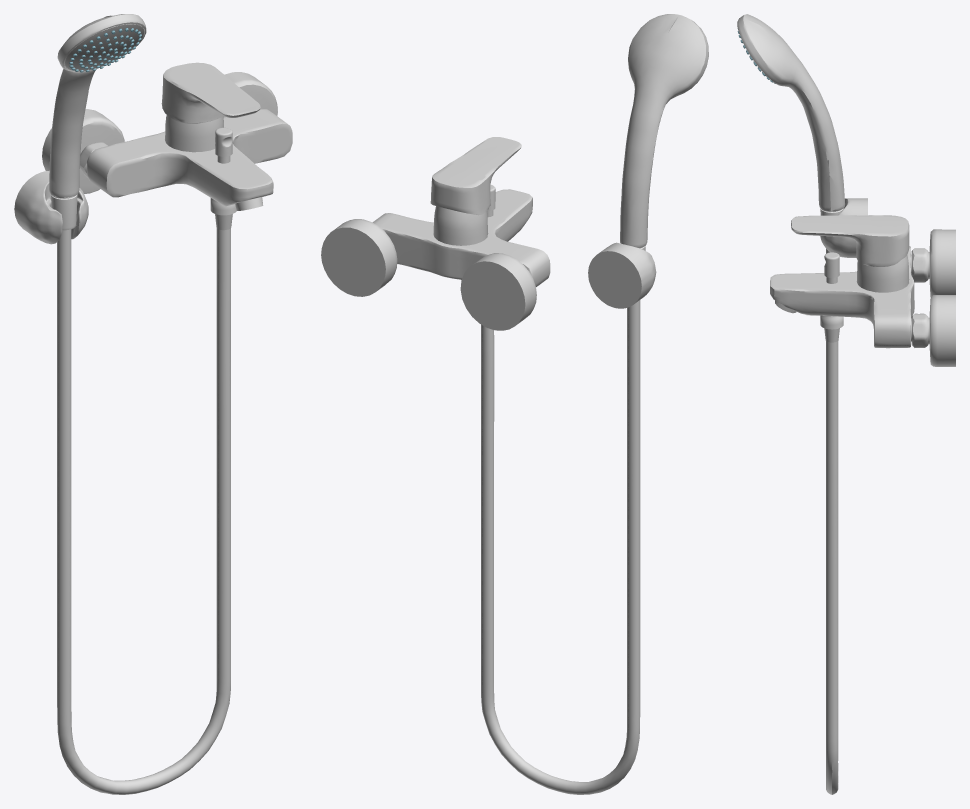
Rendered from Ceraplan3.glb.
The picture shows the model from 3 angles, left to right: view 1: azimuth 30°, elevation 25°; view 2: azimuth 150°, elevation 25°; view 3: azimuth 270°, elevation 25°; orthographic projection. The views are drawn at different scales.
Visible parts, largest first — view 1: Retopo_PolyFaceMesh_6, Retopo_PolyFaceMesh_7, Retopo_PolyFaceMesh_10, Retopo_PolyFaceMesh_8, Retopo_PolyFaceMesh_4, Retopo_PolyFaceMesh_2, Retopo_PolyFaceMesh_9, Retopo_PolyFaceMesh_1, Retopo_PolyFaceMesh_11, Cylinder_2, Retopo_PolyFaceMesh_5; view 2: Retopo_PolyFaceMesh_6, Retopo_PolyFaceMesh_10, Retopo_PolyFaceMesh_7, Retopo_PolyFaceMesh_1, Retopo_PolyFaceMesh_2, Retopo_PolyFaceMesh_8, Retopo_PolyFaceMesh_4; view 3: Retopo_PolyFaceMesh_7, Retopo_PolyFaceMesh_6, Retopo_PolyFaceMesh_10, Retopo_PolyFaceMesh_8, Retopo_PolyFaceMesh_1, Retopo_PolyFaceMesh_2, Retopo_PolyFaceMesh_4, Retopo_PolyFaceMesh_5.
Boxes of the visible parts, x1,y1,x2,y2 form: Retopo_PolyFaceMesh_6: [57, 214, 232, 794]; Retopo_PolyFaceMesh_7: [87, 109, 292, 206]; Retopo_PolyFaceMesh_10: [49, 14, 146, 197]; Retopo_PolyFaceMesh_8: [161, 62, 260, 123]; Retopo_PolyFaceMesh_4: [14, 170, 88, 244]; Retopo_PolyFaceMesh_2: [42, 109, 124, 193]; Retopo_PolyFaceMesh_9: [64, 23, 144, 71]; Retopo_PolyFaceMesh_1: [223, 72, 277, 117]; Retopo_PolyFaceMesh_11: [69, 28, 141, 72]; Cylinder_2: [51, 194, 77, 230]; Retopo_PolyFaceMesh_5: [215, 127, 232, 163]; Retopo_PolyFaceMesh_6: [481, 300, 640, 794]; Retopo_PolyFaceMesh_10: [620, 14, 708, 247]; Retopo_PolyFaceMesh_7: [372, 189, 550, 286]; Retopo_PolyFaceMesh_1: [321, 219, 397, 296]; Retopo_PolyFaceMesh_2: [460, 253, 536, 330]; Retopo_PolyFaceMesh_8: [430, 137, 521, 214]; Retopo_PolyFaceMesh_4: [588, 242, 656, 308]; Retopo_PolyFaceMesh_7: [770, 246, 914, 348]; Retopo_PolyFaceMesh_6: [824, 248, 839, 794]; Retopo_PolyFaceMesh_10: [737, 14, 845, 211]; Retopo_PolyFaceMesh_8: [791, 215, 909, 266]; Retopo_PolyFaceMesh_1: [911, 295, 955, 366]; Retopo_PolyFaceMesh_2: [911, 229, 955, 296]; Retopo_PolyFaceMesh_4: [820, 198, 867, 257]; Retopo_PolyFaceMesh_5: [824, 252, 839, 283].
Size of the model in its own units: 3.07 by 7.82 by 2.12.
Materials: 3 (2 with a texture image).
